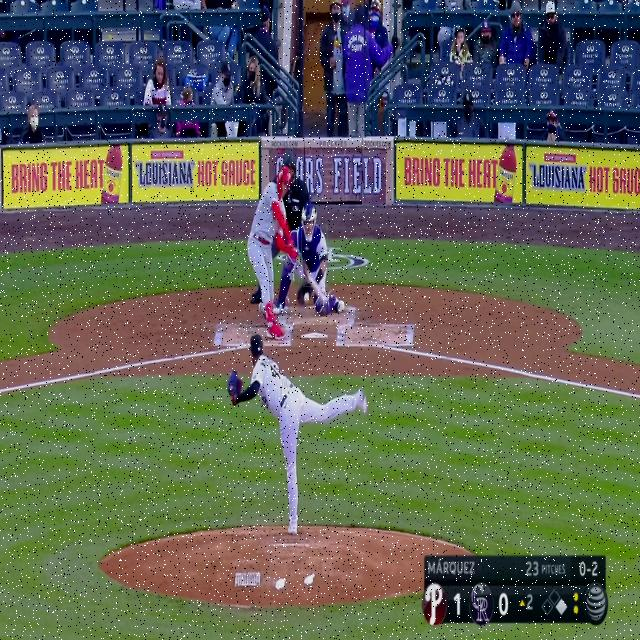baseball: (302, 291, 310, 305)
